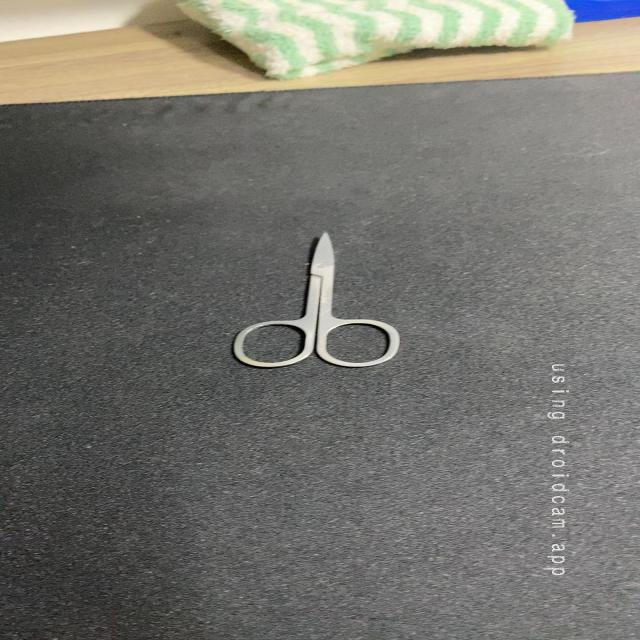scissor: (225, 228, 405, 374)
